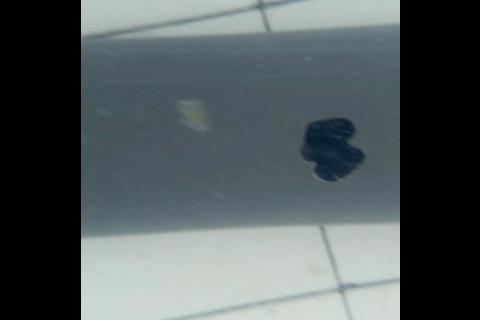kebocoran: (296, 115, 367, 183)
